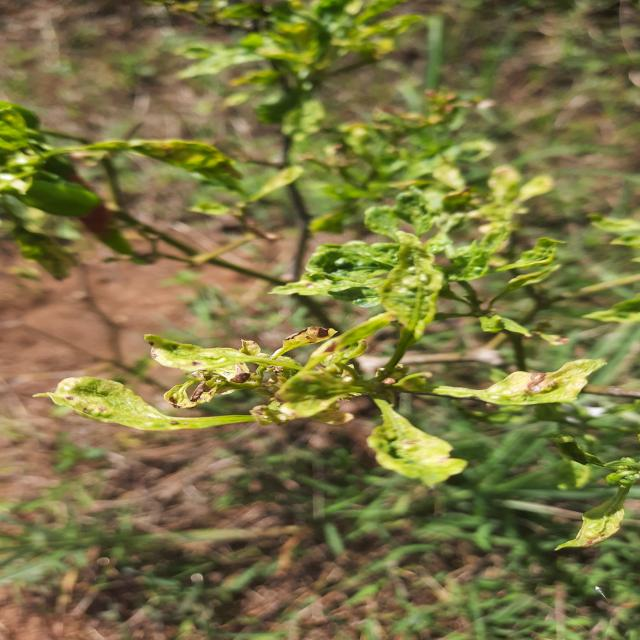virus_kuning: (381, 141, 563, 261), (364, 401, 473, 489)
